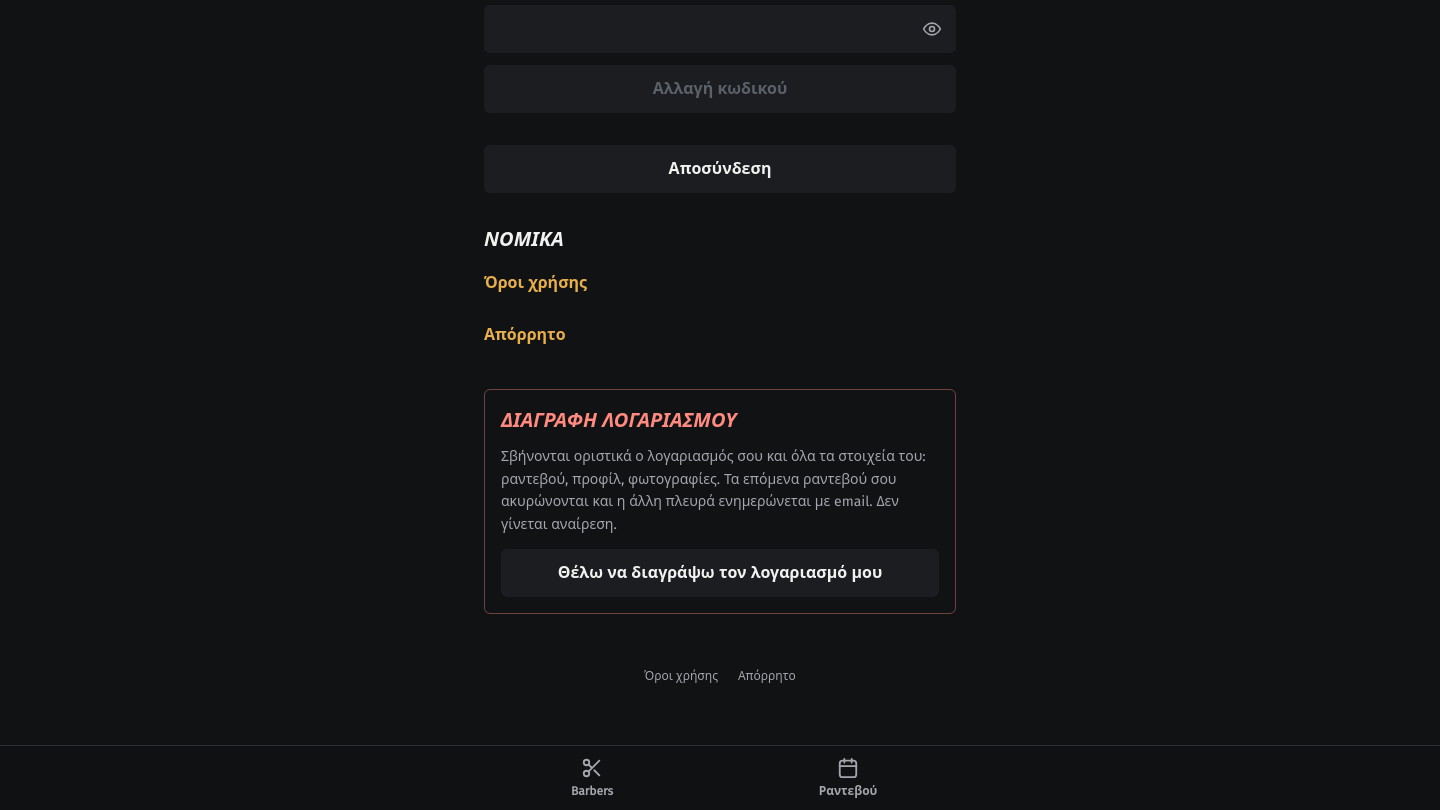
Test case: deletes the account after the password is confirmed, then signs out
(page scrolled)
Click the button "Θέλω να διαγράψω τον λογαριασμό μου" at (720, 573), box [501, 549, 939, 597]
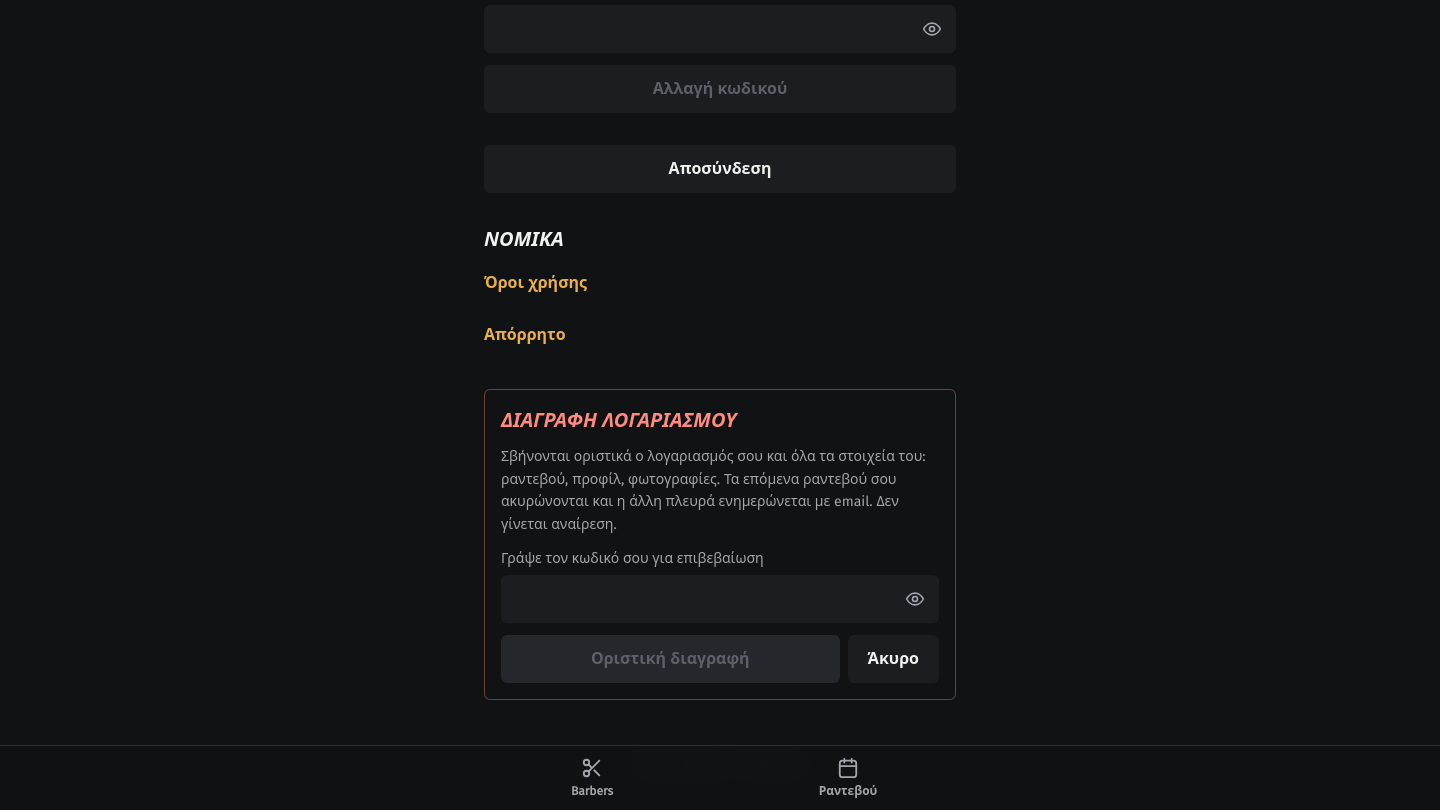
Type "my-password" into the password field labelled "Γράψε τον κωδικό σου για επιβεβαίωση" at (720, 599), box [501, 575, 939, 623]
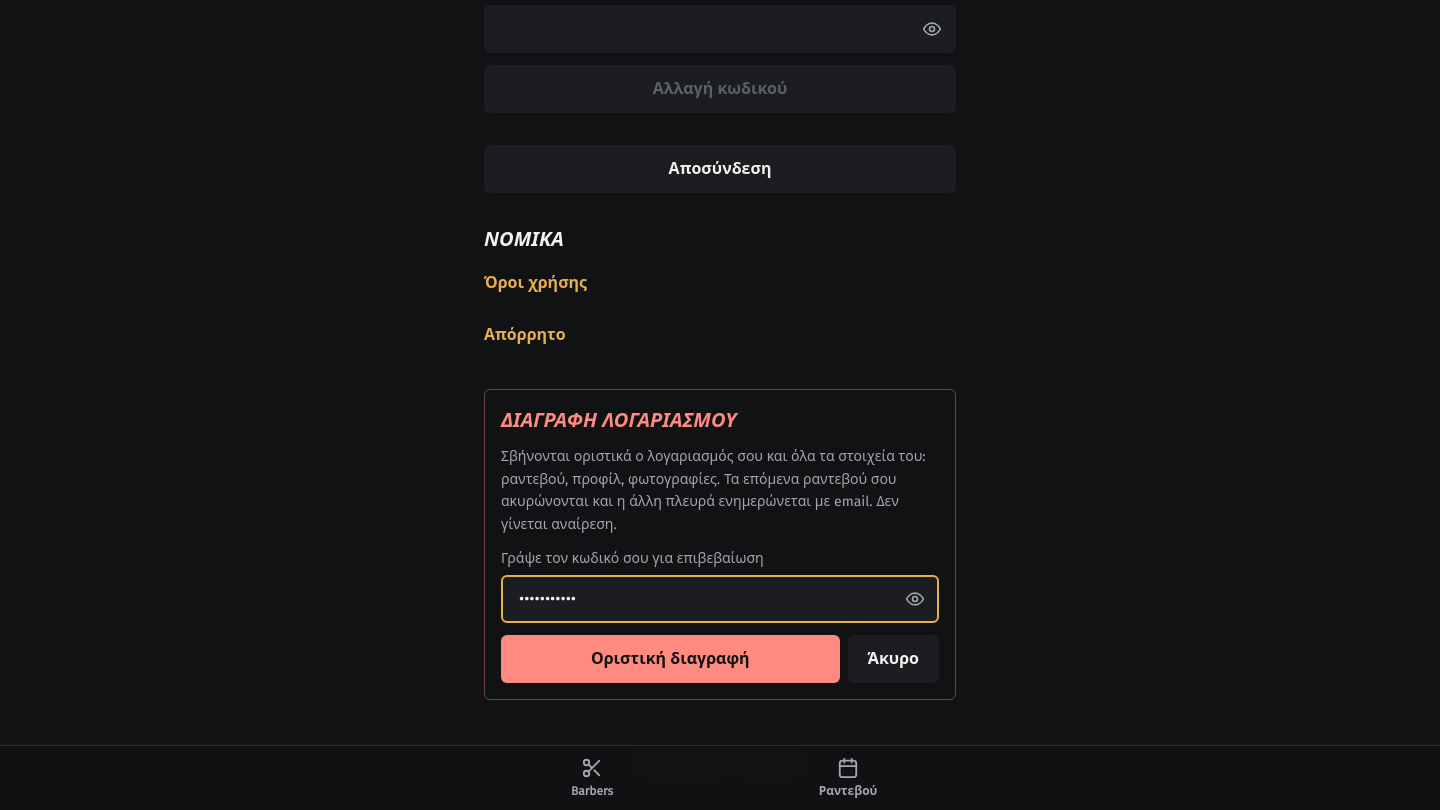
Click the button "Οριστική διαγραφή" at (670, 659), box [501, 635, 840, 683]
(page scrolled)
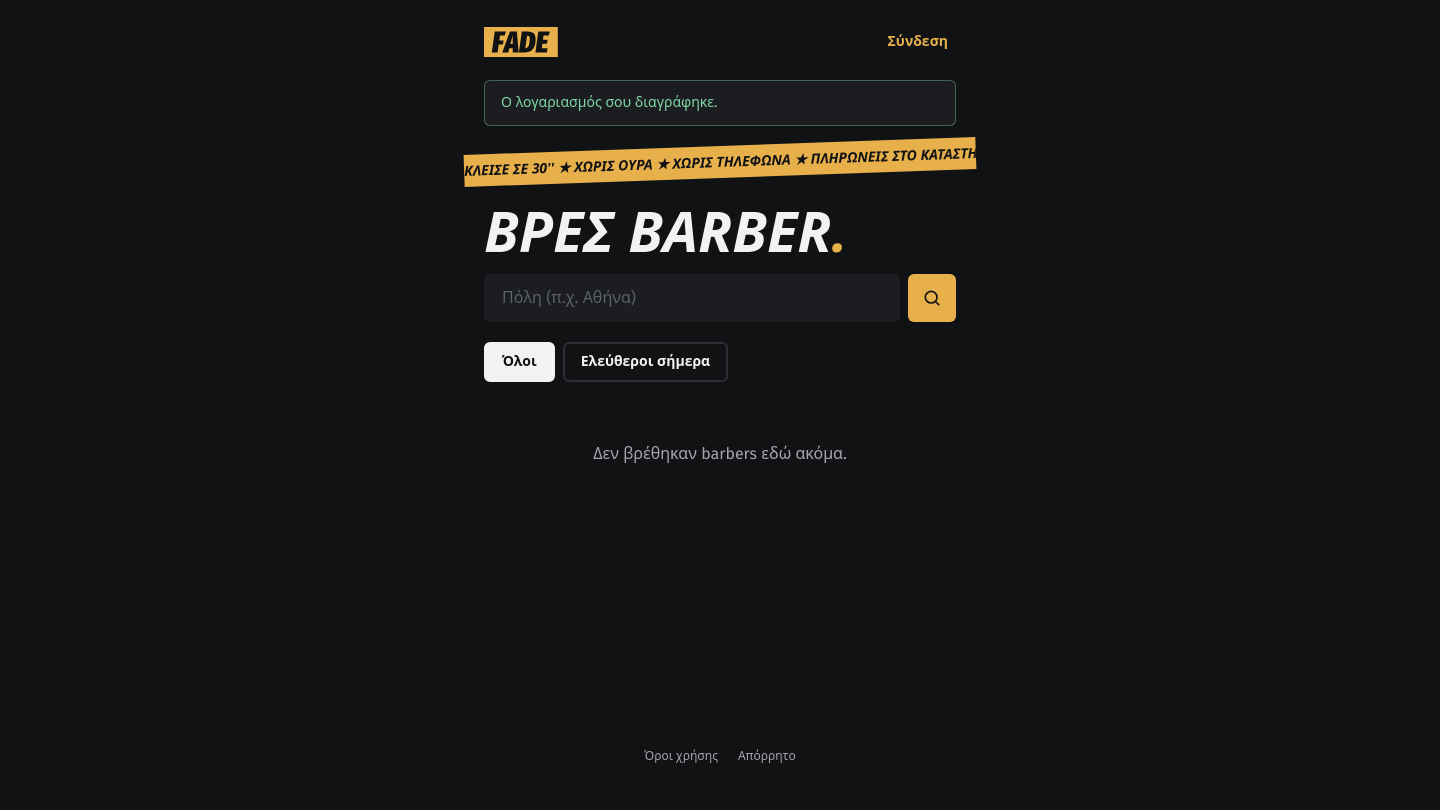
Check: the text "Ο λογαριασμός σου διαγράφηκε." is shown, box [484, 80, 956, 126]
Check: the link "Σύνδεση" is shown, box [888, 33, 948, 50]
